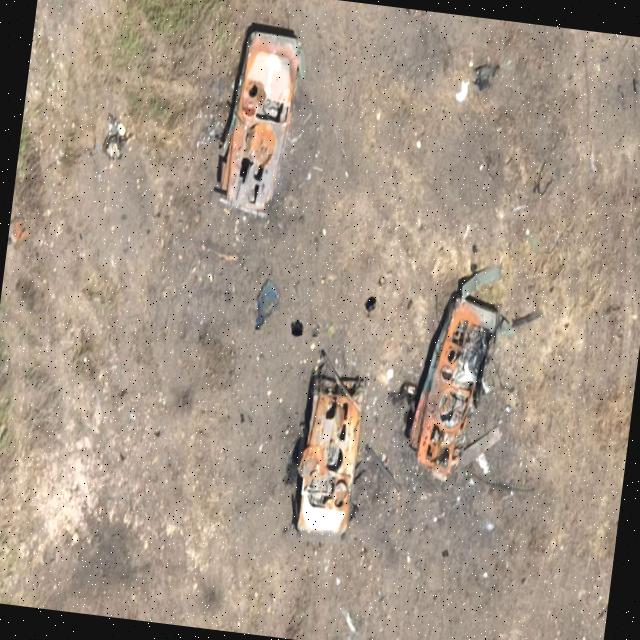Destroyed: (405, 280, 504, 478), (214, 30, 306, 217), (290, 376, 372, 546)
